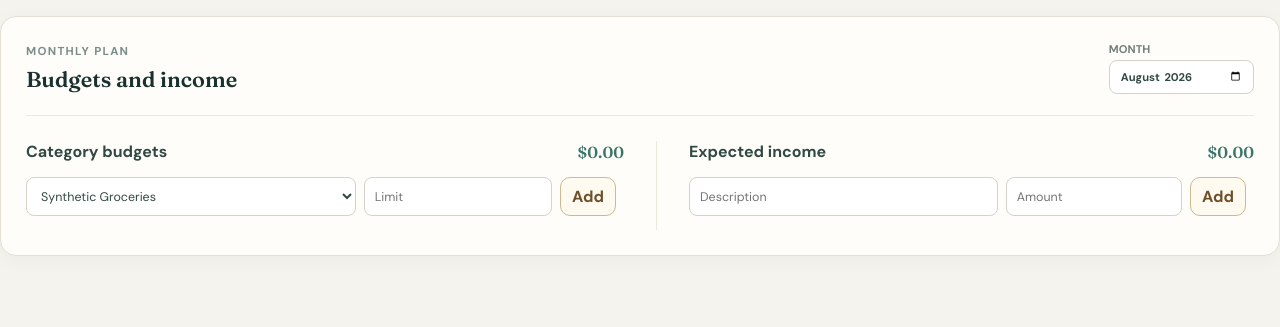
MonthlyPlanManager › creates an expected income entry and refreshes the month
The width and height of the screenshot is (1280, 327).
Type "Synthetic Paycheck" into the field named "Income description" at (843, 196), box left=689, top=177, right=998, bottom=216
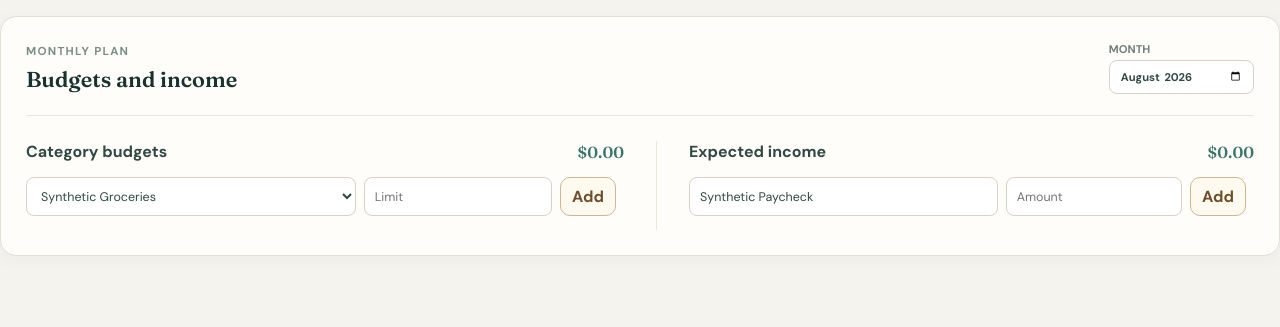
Type "3200.00" into the number field named "Income amount" at (1094, 196), box left=1006, top=177, right=1182, bottom=216
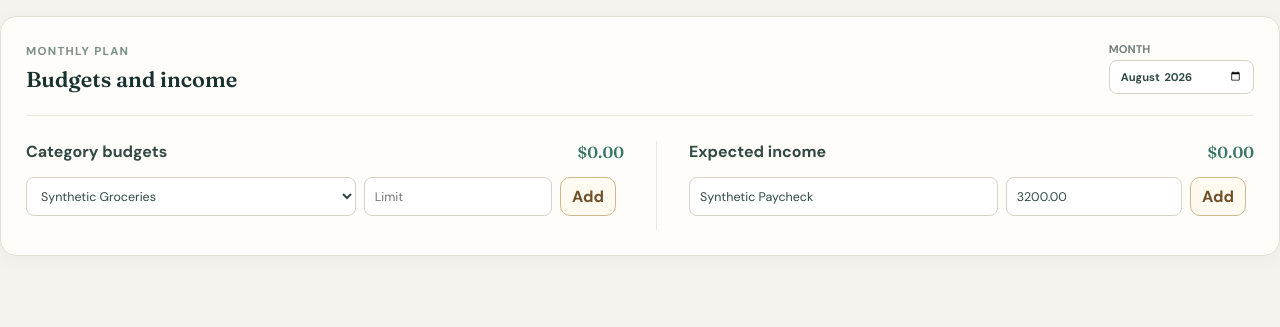
Click the 2nd button "Add" at (1218, 196), box left=1190, top=177, right=1246, bottom=216
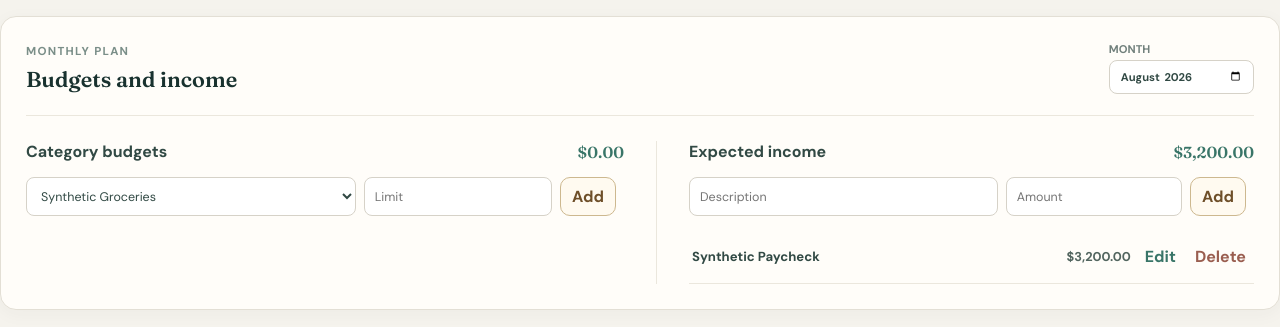
Expected: the text "Synthetic Paycheck" is shown, left=692, top=248, right=820, bottom=265
